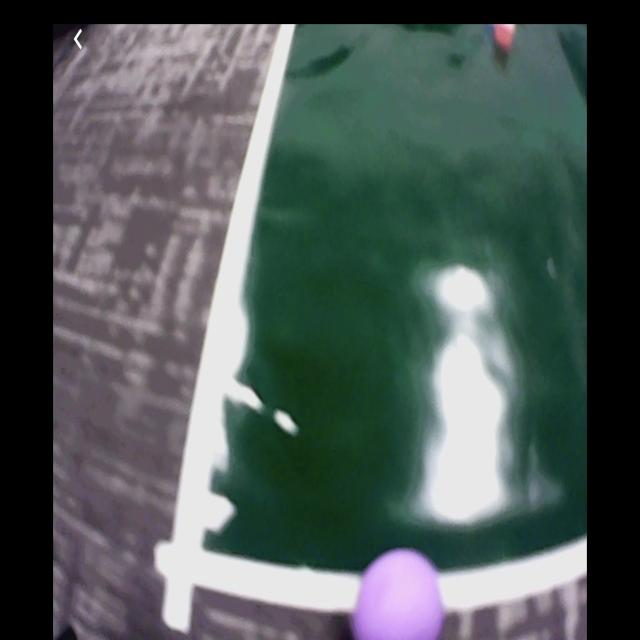ball: (349, 548, 448, 640)
